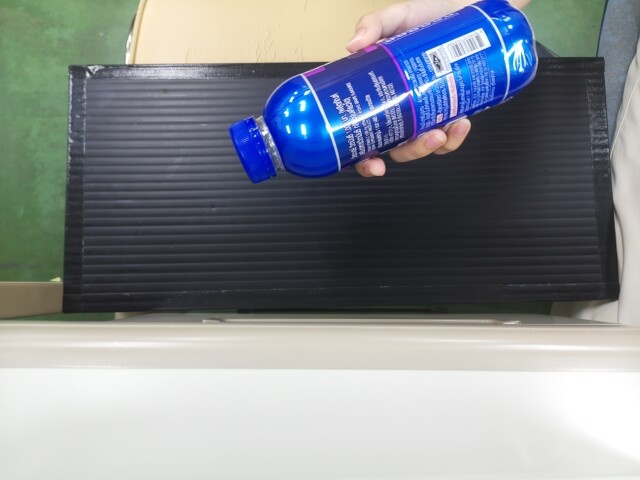plastic_bottle: (225, 25, 540, 179)
